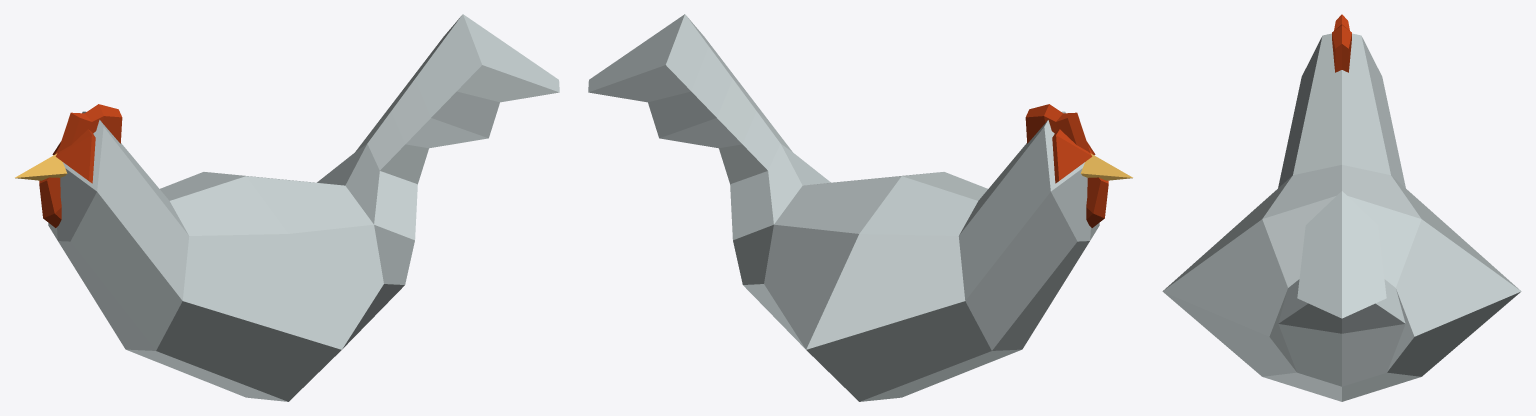
The model's file is SK_Rooster.fbx.
3 renders of one model, left to right at view 1: azimuth 30°, elevation 25°; view 2: azimuth 150°, elevation 25°; view 3: azimuth 270°, elevation 25°, orthographic. The views are drawn at different scales.
Parts seen in each view (by area): view 1: Cube.087; view 2: Cube.087; view 3: Cube.087.
Boxes of the visible parts, <box> form: Cube.087: <box>15,14,559,401</box>; Cube.087: <box>588,14,1132,401</box>; Cube.087: <box>1162,14,1521,401</box>.
Bounding box in the file's own units: 61.31 × 35.57 × 37.3.
